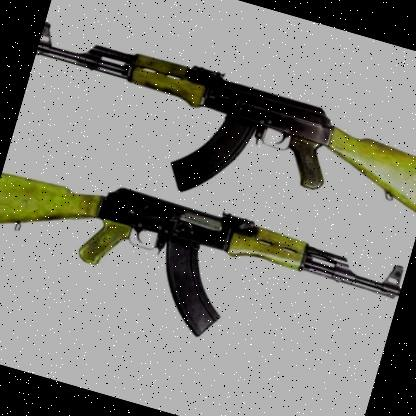rifle: (0, 141, 410, 403), (14, 4, 416, 246)
